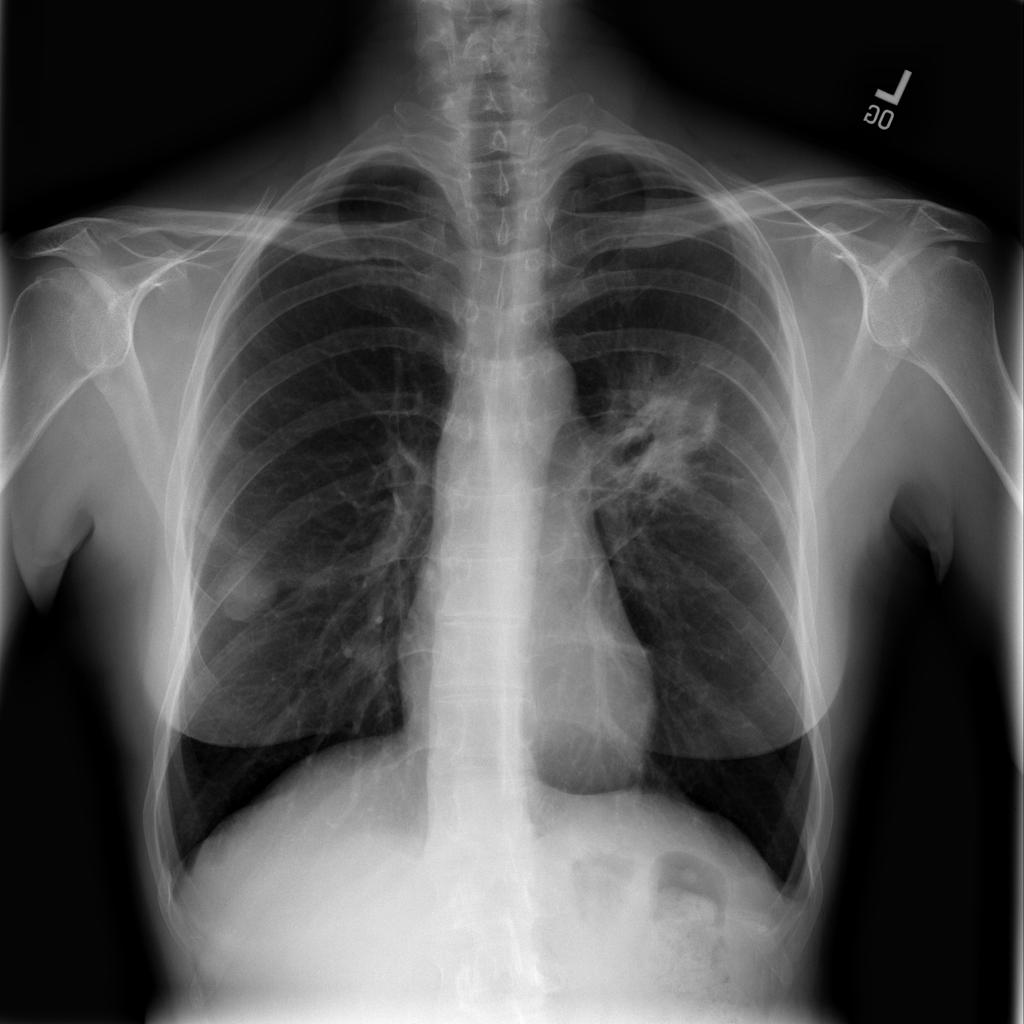nodule: (191, 538, 295, 641)
